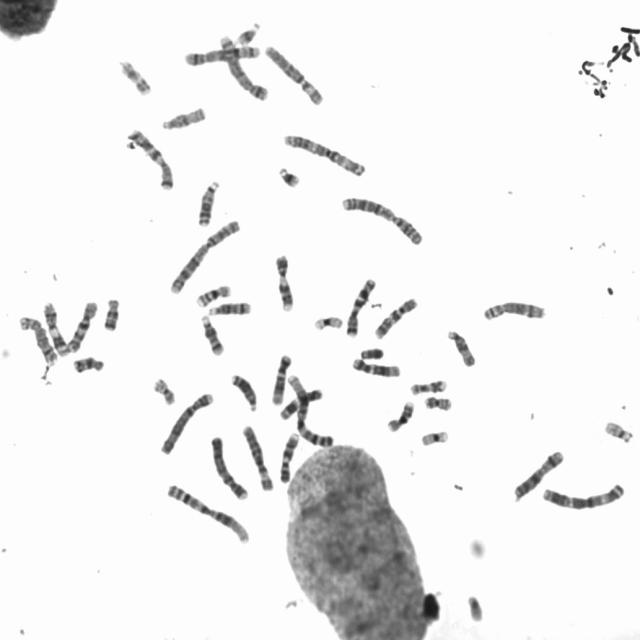A1: (162, 478, 252, 546), (282, 369, 336, 449)
A2: (165, 214, 242, 296), (338, 191, 426, 247)
A3: (279, 128, 368, 178), (538, 478, 628, 512)
B4: (156, 387, 216, 456), (207, 431, 250, 501)
B5: (216, 30, 270, 102), (181, 40, 262, 67)
C10: (370, 292, 420, 340), (63, 296, 100, 353)
C11: (39, 296, 71, 356), (276, 384, 324, 422)
C12: (268, 349, 293, 406), (348, 353, 403, 378)
C6: (261, 40, 326, 106), (238, 420, 275, 492)
C7: (124, 124, 176, 192), (342, 272, 379, 338)
C8: (15, 311, 59, 366), (479, 296, 548, 322)
C9: (271, 250, 296, 313), (276, 428, 301, 484)
D13: (227, 368, 260, 413), (194, 175, 222, 227)
D14: (197, 310, 226, 357), (205, 296, 253, 317)
D15: (156, 101, 208, 131), (443, 325, 478, 368)
E16: (383, 396, 417, 433), (192, 280, 234, 308)
E17: (116, 54, 154, 98), (406, 374, 449, 396)
E18: (100, 293, 122, 332), (69, 351, 106, 374)
F19: (417, 425, 451, 448), (310, 310, 345, 332)
F20: (149, 372, 178, 407), (421, 391, 454, 412)
G21: (232, 17, 263, 47), (274, 162, 302, 188)
G22: (601, 416, 636, 444), (465, 593, 486, 623)
X: (509, 446, 566, 502), (276, 384, 324, 422)
Y: (357, 343, 385, 360)
